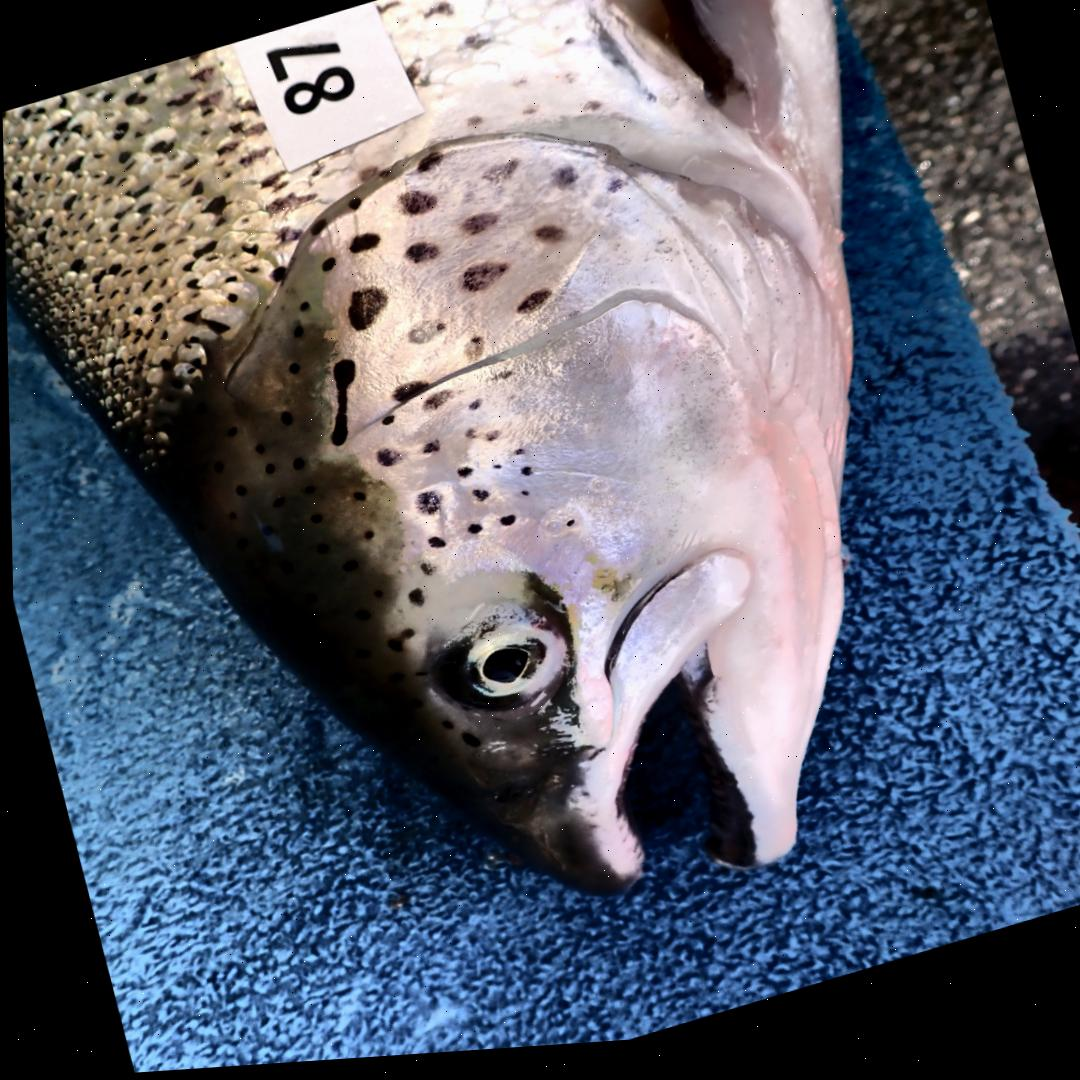spot: (327, 362, 354, 449), (345, 291, 385, 335), (459, 267, 506, 297), (396, 195, 436, 220), (458, 217, 496, 241), (513, 295, 549, 320), (406, 326, 443, 350), (481, 164, 518, 186), (403, 246, 437, 269), (347, 236, 379, 257), (420, 394, 452, 415), (413, 496, 440, 520), (391, 386, 425, 405), (461, 342, 483, 369), (416, 156, 441, 178), (550, 173, 575, 195), (372, 452, 400, 471), (533, 232, 562, 249), (307, 222, 325, 239), (419, 445, 438, 458), (424, 541, 443, 554), (606, 186, 623, 200), (469, 494, 486, 507), (496, 520, 514, 532), (482, 436, 499, 447), (320, 261, 333, 275), (455, 472, 470, 483), (465, 404, 479, 415), (347, 202, 361, 213), (464, 529, 479, 539), (379, 420, 392, 430), (497, 375, 511, 384), (462, 433, 474, 443), (517, 472, 529, 482), (511, 454, 521, 461), (564, 526, 571, 533), (490, 470, 499, 474), (519, 497, 526, 501)
